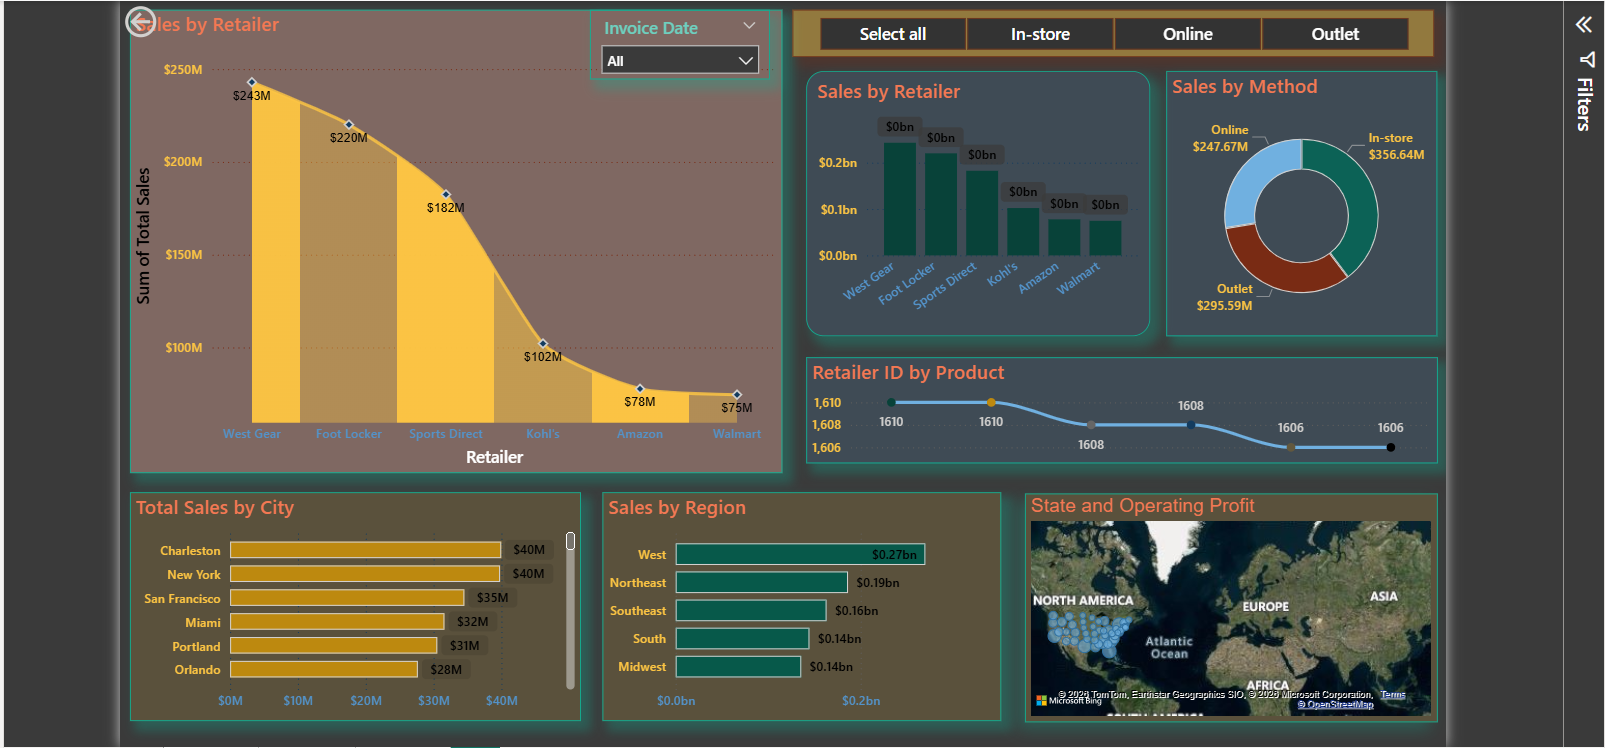

Layout of this report page (visuals, bound fields, positions):
{"tool":"powerbi","page":{"name":"Page 2","canvas":[1280,720],"ordinal":1},"visuals":[{"type":"donutChart","title":" Sales by Method","fields":{"Category":["Data Sales Adidas.Sales Method"],"Y":["Sum(Data Sales Adidas.Total Sales)"]},"box":[1009.8,67.6,261.8,255.8],"z":2000},{"type":"clusteredBarChart","title":" Sales by Region","fields":{"Category":["Data Sales Adidas.Region"],"Y":["Sum(Data Sales Adidas.Total Sales)"]},"box":[465.7,474.1,384.9,220.8],"z":3000},{"type":"lineStackedColumnComboChart","title":" Sales by Retailer","fields":{"Category":["Data Sales Adidas.Retailer"],"Y":["Sum(Data Sales Adidas.Total Sales)"]},"box":[662.3,67.6,331.8,255.8],"z":4000},{"type":"stackedAreaChart","title":" Sales by Retailer","fields":{"Category":["Data Sales Adidas.Retailer"],"Y":["Sum(Data Sales Adidas.Total Sales)"]},"box":[9.7,8.4,629.8,447.6],"z":6000},{"type":"map","title":"State and Operating Profit","fields":{"Size":["Sum(Data Sales Adidas.Operating Profit)"],"Category":["Data Sales Adidas.State"]},"box":[873.5,475.3,398.1,220.8],"z":7000},{"type":"clusteredBarChart","title":" Total Sales by City","fields":{"Y":["Sum(Data Sales Adidas.Total Sales)"],"Category":["Data Sales Adidas.City"]},"box":[9.7,474.1,435.5,220.8],"z":8000},{"type":"lineChart","title":" Retailer ID by Product","fields":{"Category":["Data Sales Adidas.Product"],"Y":["CountNonNull(Data Sales Adidas.Retailer ID)"]},"box":[662.3,343.8,609.3,102.5],"z":9000},{"type":"slicer","fields":{"Values":["Data Sales Adidas.Sales Method"]},"box":[649.1,8.4,618.9,45.8],"z":10000},{"type":"actionButton","box":[0,0,100,40],"z":11000},{"type":"slicer","fields":{"Values":["Data Sales Adidas.Invoice Date"]},"box":[453.6,8.4,173.7,67.6],"z":12000}]}

Visuals, with their boxes on the page's 1280x720 design canvas (x1, y1, x2, y2). These are canvas units, not pixel positions in the 1605x748 screenshot, which may show the page scaled, cropped or inside an application window:
" Sales by Method" donutChart: 1010/68/1272/323
" Sales by Region" clusteredBarChart: 466/474/851/695
" Sales by Retailer" lineStackedColumnComboChart: 662/68/994/323
" Sales by Retailer" stackedAreaChart: 10/8/640/456
"State and Operating Profit" map: 874/475/1272/696
" Total Sales by City" clusteredBarChart: 10/474/445/695
" Retailer ID by Product" lineChart: 662/344/1272/446
slicer - Data Sales Adidas.Sales Method: 649/8/1268/54
actionButton: 0/0/100/40
slicer - Data Sales Adidas.Invoice Date: 454/8/627/76
